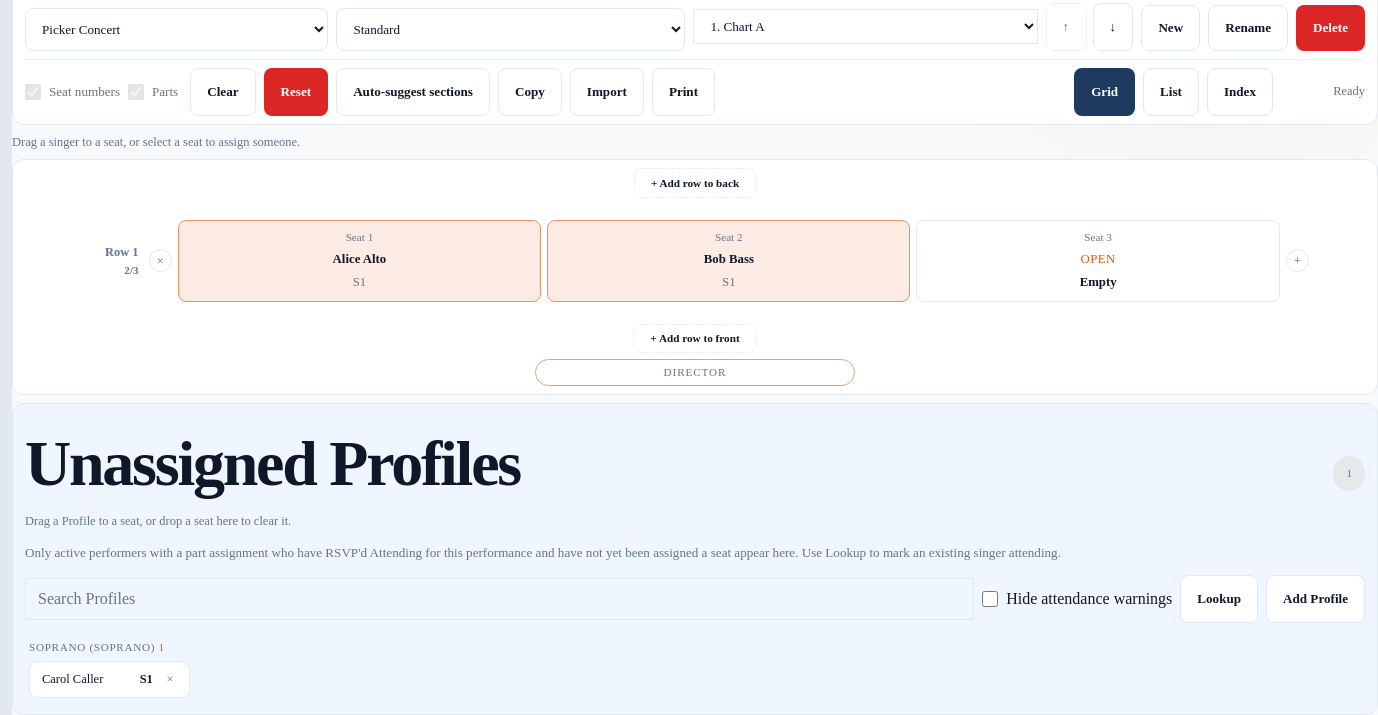
it: Seat assignment candidate picker › clears only the tray search
The width and height of the screenshot is (1378, 715).
(page scrolled)
Type "missing" into the search field named "Search unassigned Profiles" at (500, 599), box [25, 578, 974, 620]
(page scrolled)
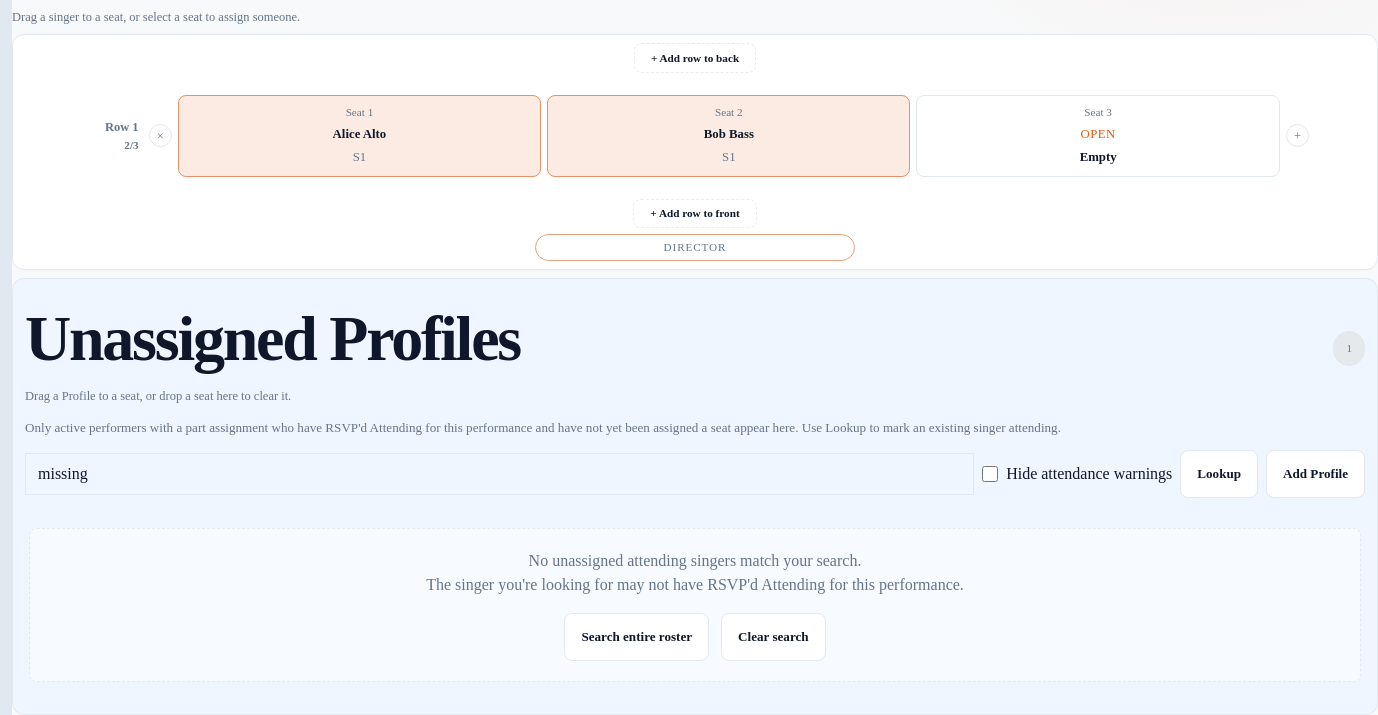
Click the button "Clear search" at (773, 637), box [721, 613, 826, 661]
(page scrolled)
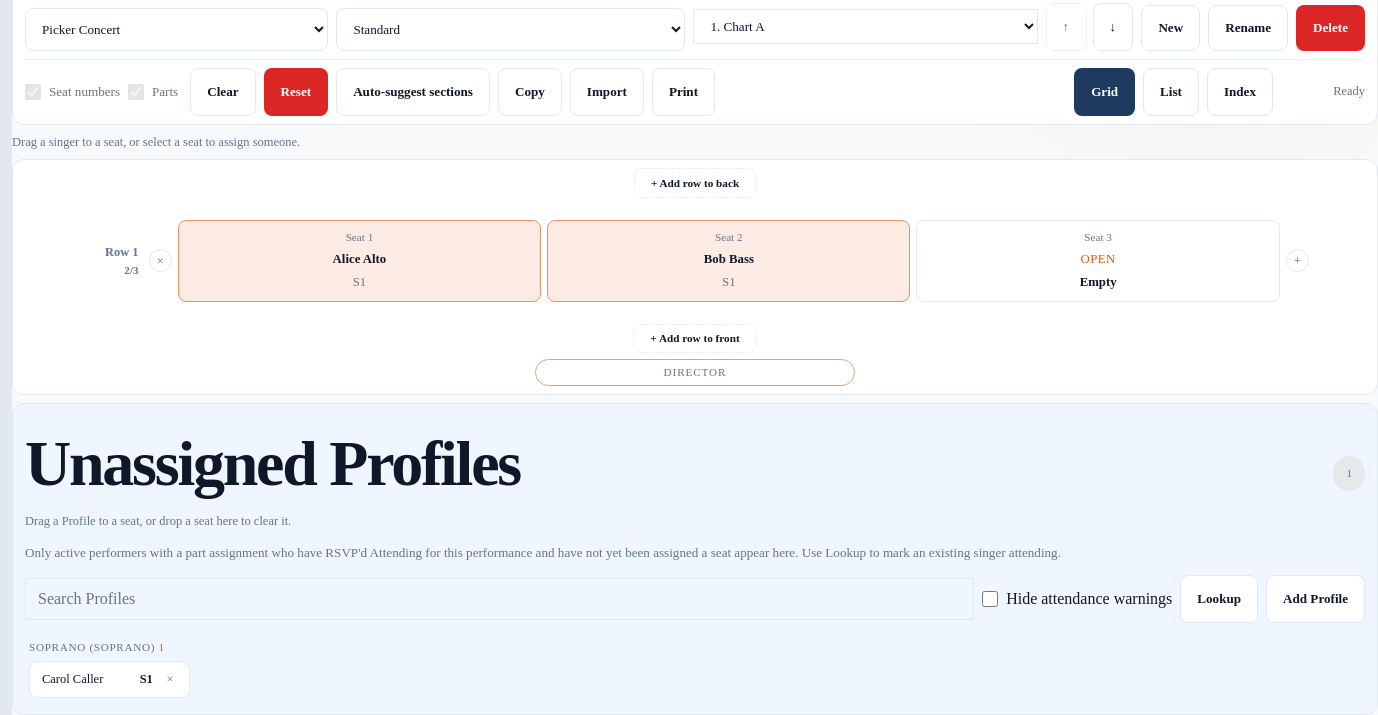
Now the search field named "Search unassigned Profiles" is empty, box [25, 578, 974, 620]
Now the element "Unassigned Profiles" shows "Carol Caller", box [42, 672, 103, 686]
